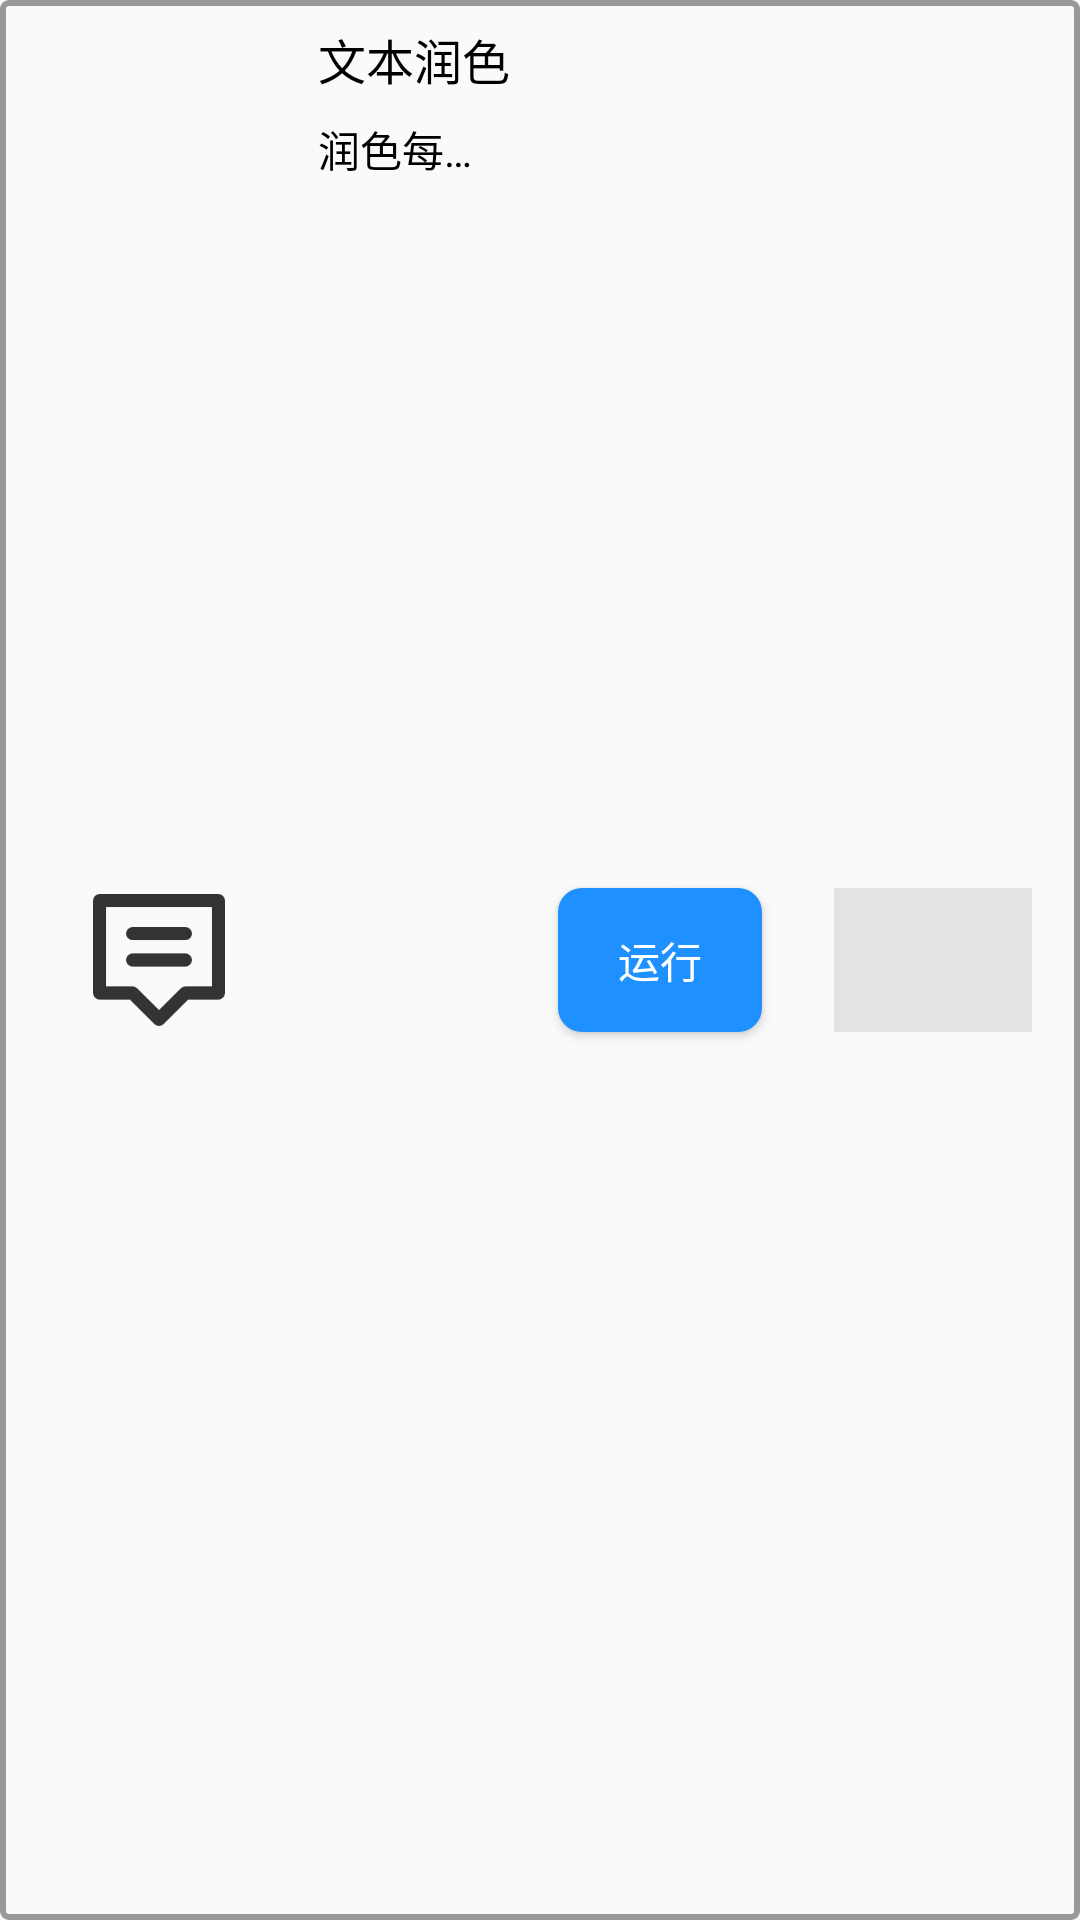

Where icons sit on this 1080*1920 app screen, as rect(x1, y1, x2, y2):
chat: rect(93, 894, 225, 1026)
